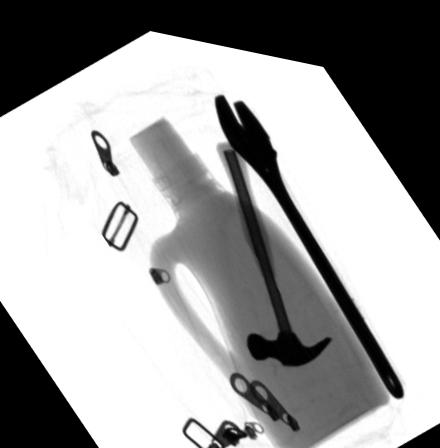Hammer: (214, 132, 333, 355)
Wrench: (212, 86, 404, 383)
